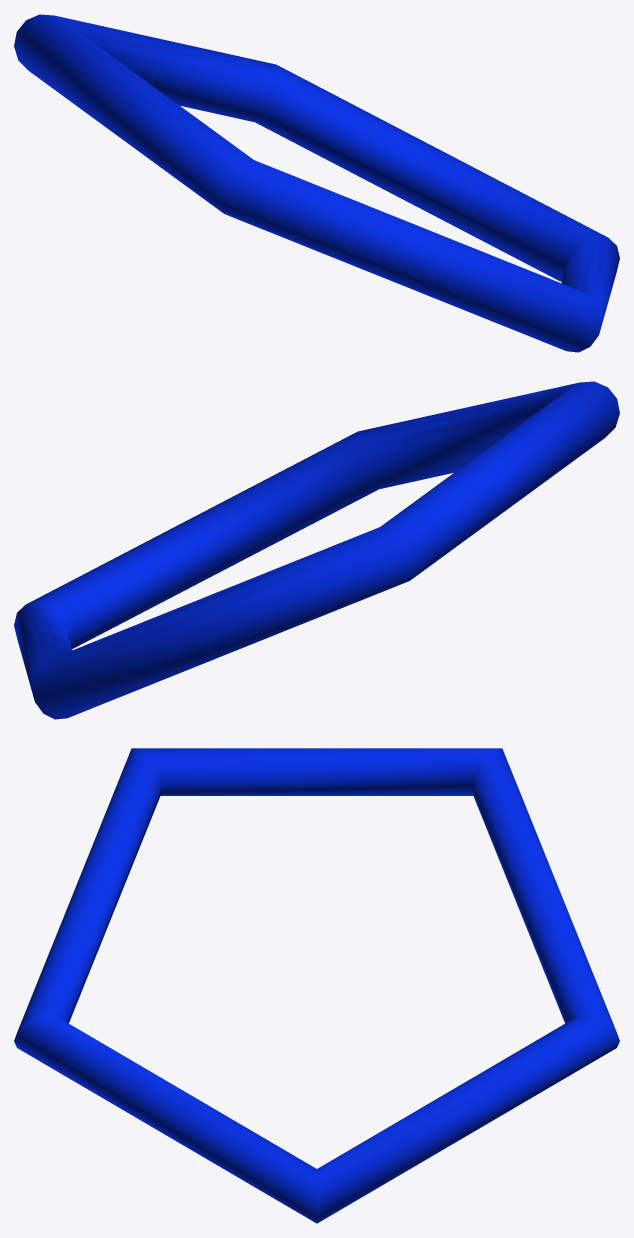
The model's file is hydrogen_ring_1.gltf.
3 renders of one model, top to bottom at view 1: azimuth 30°, elevation 25°; view 2: azimuth 150°, elevation 25°; view 3: azimuth 270°, elevation 25°, orthographic. The views are drawn at different scales.
Parts seen in each view (by area): view 1: Torus.001; view 2: Torus.001; view 3: Torus.001.
Part boxes in pixels (x1=…): Torus.001: x1=14, y1=14, x2=619, y2=352; Torus.001: x1=14, y1=381, x2=619, y2=719; Torus.001: x1=14, y1=748, x2=619, y2=1223.
Size of the model in its own units: 4.65 by 2.78 by 5.5.
